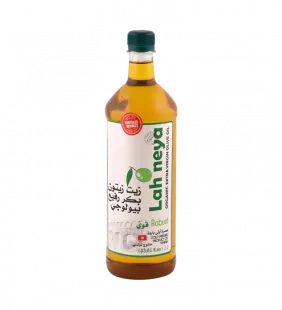LAHNEYA: (99, 20, 188, 284)
